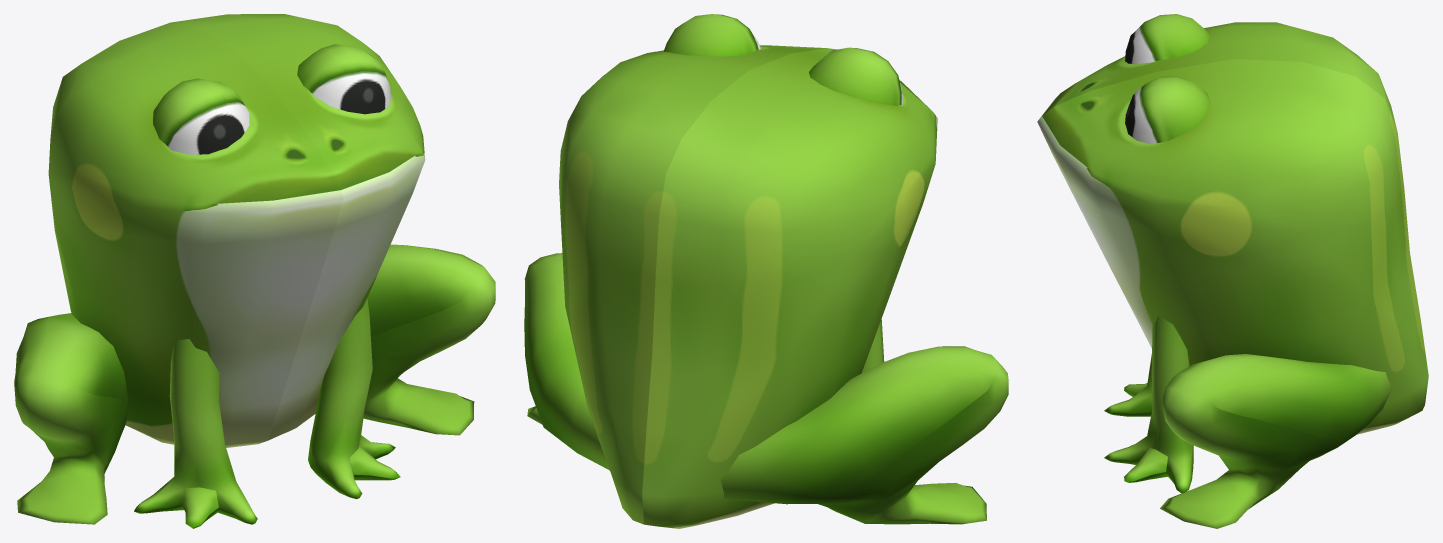
The model's file is ENV2010049.fbx.
The picture shows the model from 3 angles, left to right: view 1: azimuth 30°, elevation 25°; view 2: azimuth 150°, elevation 25°; view 3: azimuth 270°, elevation 25°; orthographic projection. The views are drawn at different scales.
Visible parts, largest first — view 1: smENV2010049; view 2: smENV2010049; view 3: smENV2010049.
Part boxes in pixels (left/top/right/bottom): smENV2010049: left=14, top=14, right=495, bottom=528; smENV2010049: left=524, top=14, right=1008, bottom=528; smENV2010049: left=1037, top=14, right=1428, bottom=528.
Bounding box in the file's own units: 10.43 × 8.88 × 8.11.
1 material, 1 textured.
